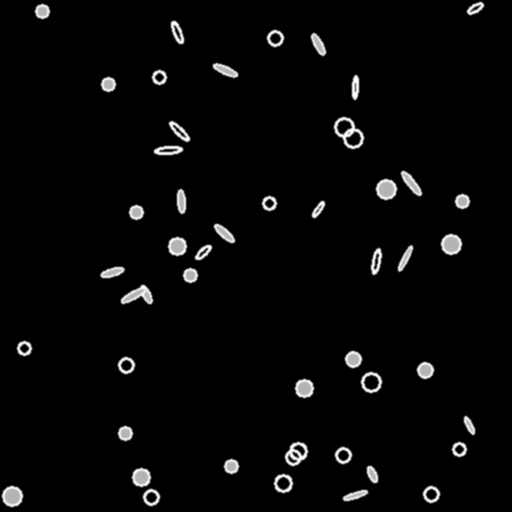pseudomonas: (400, 170, 422, 196), (119, 286, 147, 304), (168, 120, 190, 142), (213, 222, 235, 244), (397, 245, 413, 271), (213, 62, 237, 78), (310, 33, 326, 55), (100, 265, 124, 279), (194, 243, 212, 261), (342, 489, 368, 501), (170, 21, 184, 43), (310, 200, 326, 218), (370, 249, 382, 273), (139, 284, 153, 304), (365, 465, 379, 483), (466, 1, 484, 15), (463, 416, 475, 434), (155, 146, 181, 154), (177, 190, 185, 212), (352, 75, 358, 99)
synechocystis: (344, 129, 362, 147), (3, 487, 21, 505), (362, 373, 380, 391), (377, 180, 395, 198), (335, 118, 353, 136), (442, 235, 460, 253), (296, 380, 312, 396), (275, 475, 291, 491), (133, 469, 149, 485), (290, 443, 306, 459), (169, 238, 185, 254), (286, 450, 300, 464), (418, 363, 432, 377), (144, 490, 158, 504), (119, 358, 133, 372), (336, 448, 350, 462), (346, 352, 360, 366), (424, 487, 438, 501), (268, 31, 282, 45), (263, 197, 275, 209), (153, 71, 165, 83), (18, 342, 30, 354), (102, 78, 114, 90), (453, 443, 465, 455), (119, 427, 131, 439), (225, 460, 237, 472), (456, 195, 468, 207), (184, 269, 196, 281), (130, 206, 142, 218), (36, 5, 48, 17)
